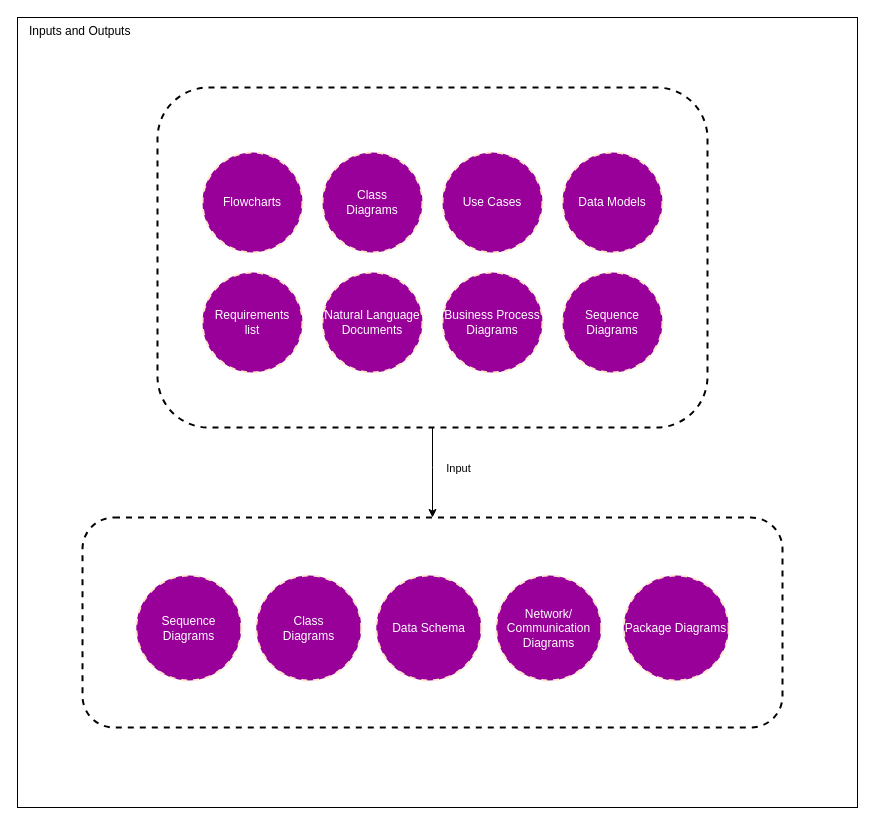
Some shapes in this 875 by 825 pixel diagram are drawn without their labels. Here are the shapes that lost their labels. From the top down, the box of each, then its label:
(156, 86, 708, 428): Analysis output
(81, 516, 783, 728): Design output
